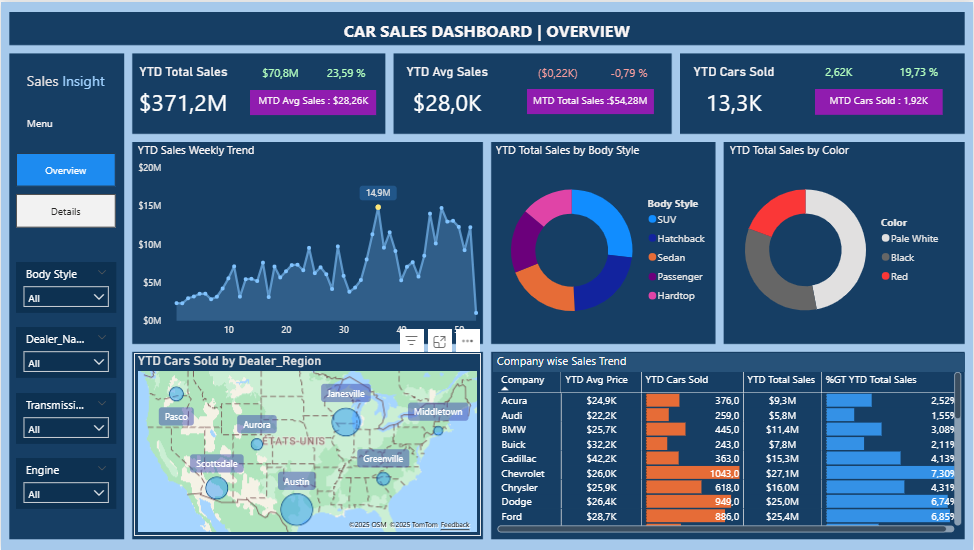

The page's visual inventory and layout, read from the dashboard file:
{"tool":"powerbi","page":{"name":"Overview","canvas":[1280,720],"ordinal":0},"visuals":[{"type":"card","title":"YTD Total Sales","fields":{"Values":["car_data.YTD Total Sales"]},"box":[174.5,81.4,130,82.7],"z":0},{"type":"card","fields":{"Values":["car_data.Sales Difference"]},"box":[338.2,80,59.1,29.1],"z":1000},{"type":"card","fields":{"Values":["car_data.YOY Sales Growth"]},"box":[422.7,80,63.6,29.1],"z":2000},{"type":"card","fields":{"Values":["car_data.MTD Avg Price KPI"]},"box":[327.3,115.5,166.4,32.7],"z":3000},{"type":"card","title":"YTD Avg Sales","fields":{"Values":["car_data.YTD Avg Price"]},"box":[528,81,119,83],"z":4000},{"type":"card","fields":{"Values":["car_data.Avg Price Diff"]},"box":[701.4,75.7,62.9,37.1],"z":5000},{"type":"card","fields":{"Values":["car_data.YOY Avg Price Growth"]},"box":[792.9,75.7,65.7,37.1],"z":6000},{"type":"card","fields":{"Values":["car_data.MTD KPI"]},"box":[691.7,115,166.7,33.3],"z":7000},{"type":"card","title":"YTD Cars Sold","fields":{"Values":["car_data.YTD Cars Sold"]},"box":[904,81,121,83],"z":8000},{"type":"card","fields":{"Values":["car_data.Cars Sold Diff"]},"box":[1071.2,76.2,62.5,36.2],"z":9000},{"type":"card","fields":{"Values":["car_data.YOY Car Sold Growth"]},"box":[1176.2,76.2,62.5,36.2],"z":10000},{"type":"card","fields":{"Values":["car_data.MTD Cars Sold KPI"]},"box":[1071.2,115,167.5,33.8],"z":11000},{"type":"areaChart","title":"YTD Sales Weekly Trend","fields":{"Category":["calendar_table.Week"],"Y":["Sum(car_data.Price ($))","car_data.Max Point on Area Chart"]},"box":[174.4,183.7,465.1,265.1],"z":12000},{"type":"donutChart","title":"YTD Total Sales by Body Style","fields":{"Category":["car_data.Body Style"],"Y":["car_data.YTD Total Sales"]},"box":[646.2,183.8,293.8,265],"z":13000},{"type":"donutChart","title":"YTD Total Sales by Color","fields":{"Y":["car_data.YTD Total Sales"],"Category":["car_data.Color"]},"box":[954,184,294,264],"z":14000},{"type":"azureMap","title":"YTD Cars Sold by Dealer_Region","fields":{"Category":["car_data.Dealer_Region"],"Size":["car_data.YTD Cars Sold"]},"box":[175,461.2,456.2,241.2],"z":15000},{"type":"tableEx","title":"Company wise Sales Trend","fields":{"Values":["car_data.Company","car_data.YTD Avg Price","car_data.YTD Cars Sold","car_data.YTD Total Sales1","car_data.YTD Total Sales"]},"box":[647.1,461.4,621.4,241.4],"z":16000},{"type":"textbox","box":[445.7,18.6,388.6,42.9],"z":17000},{"type":"slicer","fields":{"Values":["car_data.Body Style"]},"box":[20.3,342,131.9,66.7],"z":18000},{"type":"slicer","fields":{"Values":["car_data.Dealer_Name"]},"box":[20.3,427.5,131.9,66.7],"z":19000},{"type":"slicer","fields":{"Values":["car_data.Transmission"]},"box":[20.3,514.5,131.9,66.7],"z":20000},{"type":"slicer","fields":{"Values":["car_data.Engine"]},"box":[20.3,600,131.9,66.7],"z":21000},{"type":"textbox","box":[28.3,85,123.3,38.3],"z":21001},{"type":"textbox","box":[28.3,146.7,50,35],"z":21002},{"type":"pageNavigator","box":[20,198.3,131.7,98.3],"z":21003}]}

Visuals, with their boxes in screenshot pixels (x1, y1, x2, y2), scaled from the page's 1280x720 canvas onto the 974x550 screenshot:
"YTD Total Sales" card: 133:62:232:125
card - car_data.Sales Difference: 257:61:302:83
card - car_data.YOY Sales Growth: 322:61:370:83
card - car_data.MTD Avg Price KPI: 249:88:376:113
"YTD Avg Sales" card: 402:62:492:125
card - car_data.Avg Price Diff: 534:58:582:86
card - car_data.YOY Avg Price Growth: 603:58:653:86
card - car_data.MTD KPI: 526:88:653:113
"YTD Cars Sold" card: 688:62:780:125
card - car_data.Cars Sold Diff: 815:58:863:86
card - car_data.YOY Car Sold Growth: 895:58:943:86
card - car_data.MTD Cars Sold KPI: 815:88:943:114
"YTD Sales Weekly Trend" areaChart: 133:140:487:343
"YTD Total Sales by Body Style" donutChart: 492:140:715:343
"YTD Total Sales by Color" donutChart: 726:141:950:342
"YTD Cars Sold by Dealer_Region" azureMap: 133:352:480:537
"Company wise Sales Trend" tableEx: 492:352:965:537
textbox: 339:14:635:47
slicer - car_data.Body Style: 15:261:116:312
slicer - car_data.Dealer_Name: 15:327:116:378
slicer - car_data.Transmission: 15:393:116:444
slicer - car_data.Engine: 15:458:116:509
textbox: 22:65:115:94
textbox: 22:112:60:139
pageNavigator: 15:151:115:227
